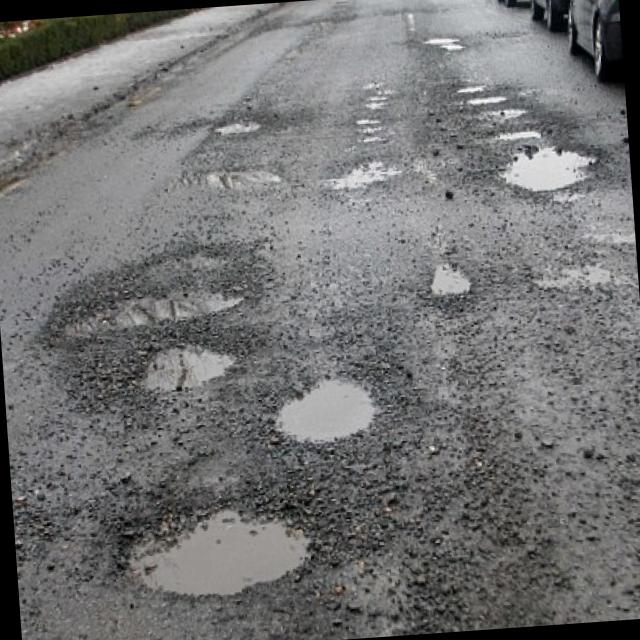Potholes: (110, 470, 330, 610), (31, 255, 252, 348), (263, 363, 403, 456), (496, 134, 628, 206), (132, 332, 253, 400), (314, 148, 428, 206), (453, 72, 541, 146), (424, 253, 496, 311), (202, 154, 294, 197), (420, 25, 472, 71), (214, 110, 278, 142)
